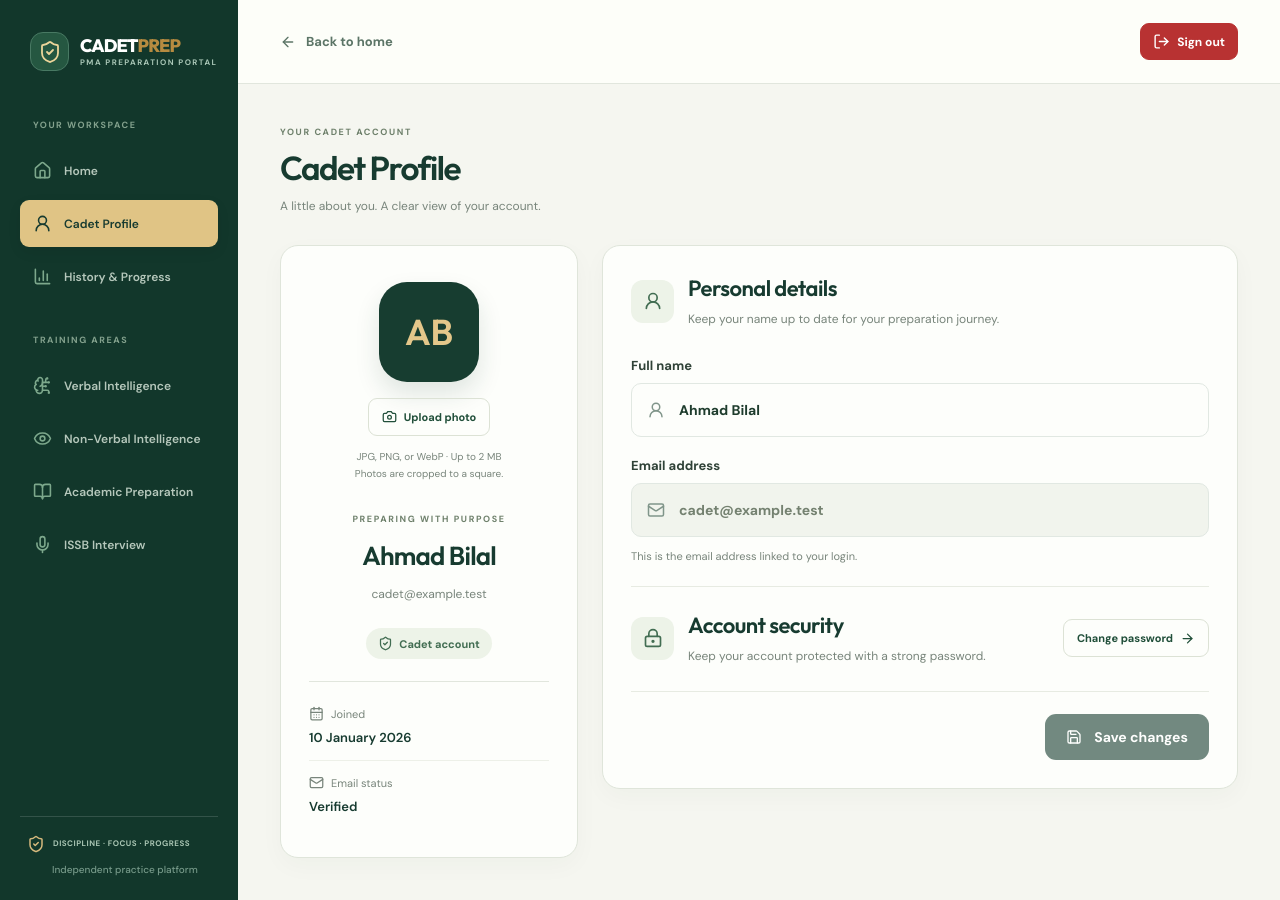
a failed profile sign out shows an error and allows retry
The image size is (1280, 900).
Click the button "Sign out" at (1189, 42), box [1140,23,1238,60]
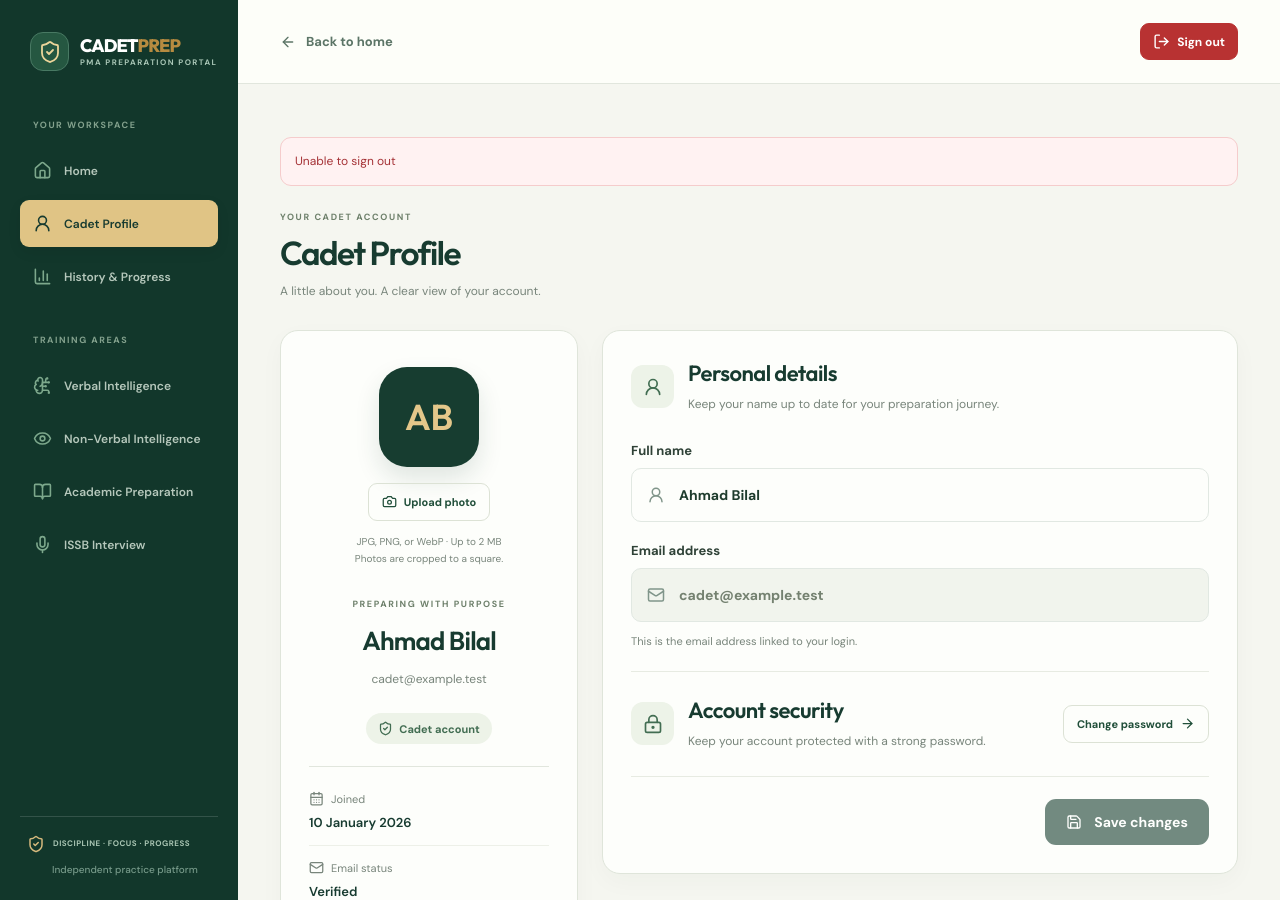
Expected: the heading "Cadet Profile" is shown, [280,232,460,274]
Expected: the message "Unable to sign out" is shown, [280,137,1238,186]
